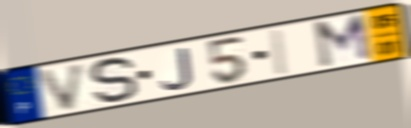5: (206, 32, 249, 87)
I: (268, 26, 292, 78)
J: (159, 46, 195, 91)
M: (311, 11, 375, 71)
S: (87, 55, 141, 107)
V: (37, 60, 90, 113)
